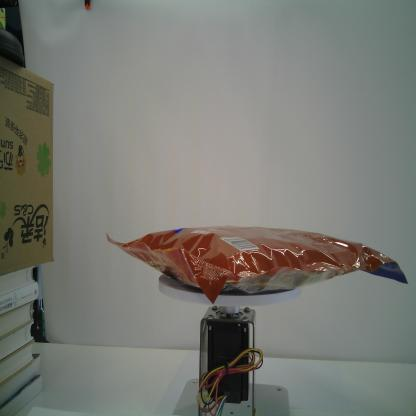Dried Food: (105, 223, 410, 306)
